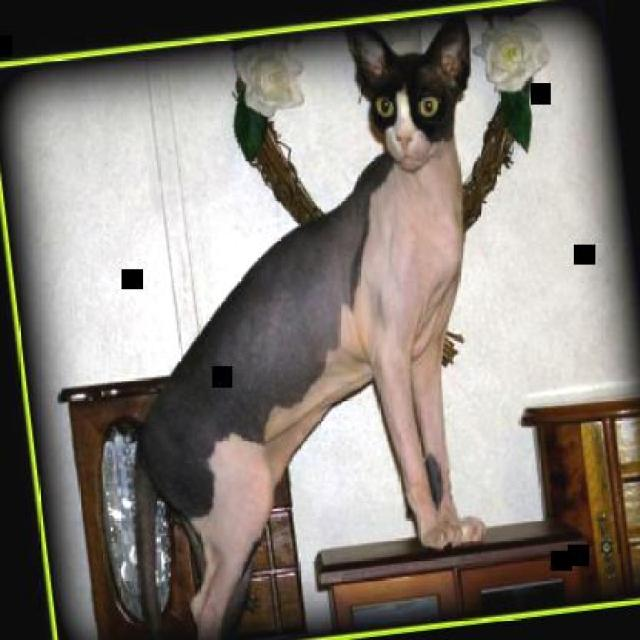cat: (76, 12, 542, 638)
